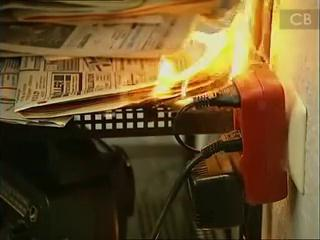Fire: (153, 1, 256, 97)
